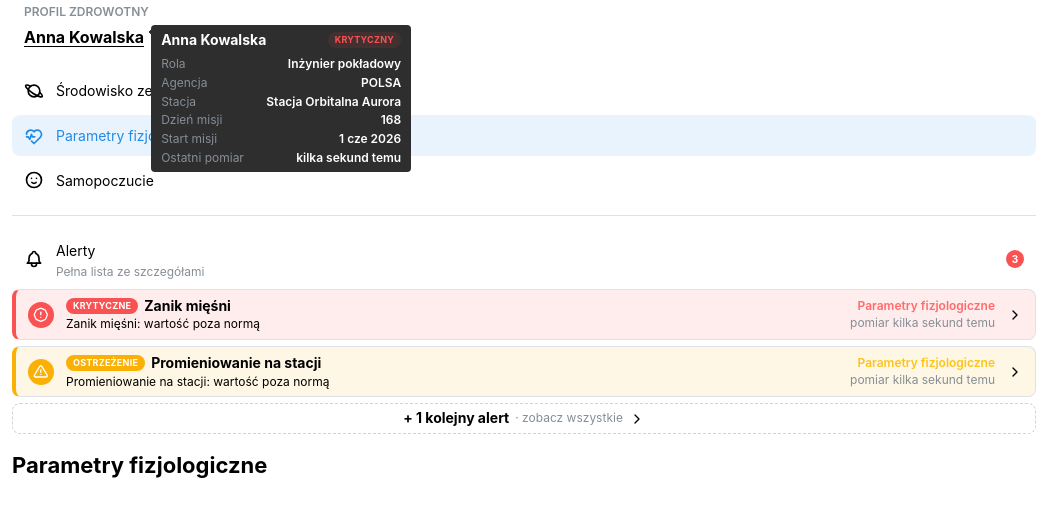
Test: HealthProfile › opens the side bar profile tooltip with a tap on touch devices
The width and height of the screenshot is (1048, 529).
Expected: the tooltip shows "Dzień misji", top-left (161, 112), bottom-right (222, 128)
Press the mouse on the element that starts with "Profil zdrowotny" at (524, 256), box top-left (12, 0), bottom-right (1036, 512)
Press the mouse on the element that starts with "Profil zdrowotny" at (524, 256), box top-left (12, 0), bottom-right (1036, 512)
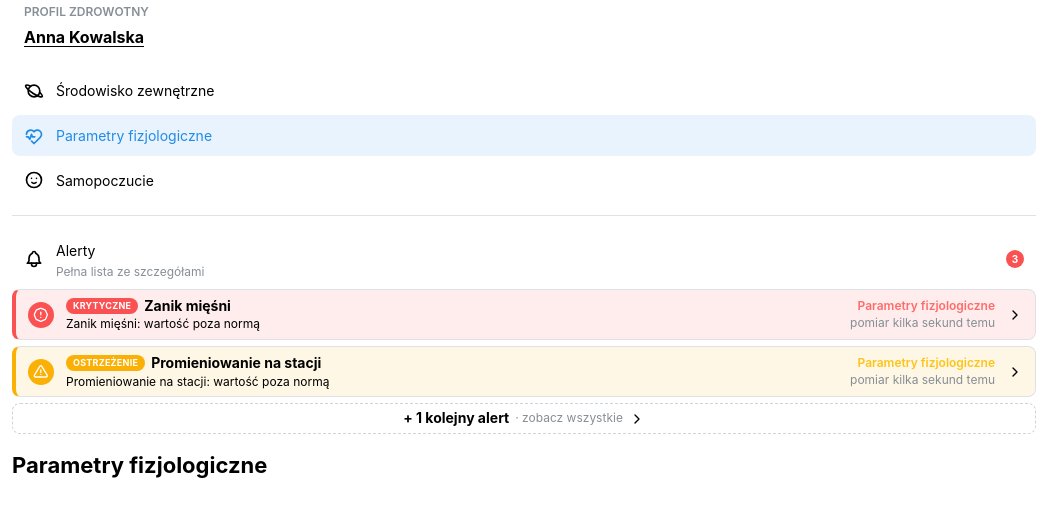
Expected: the tooltip is gone
